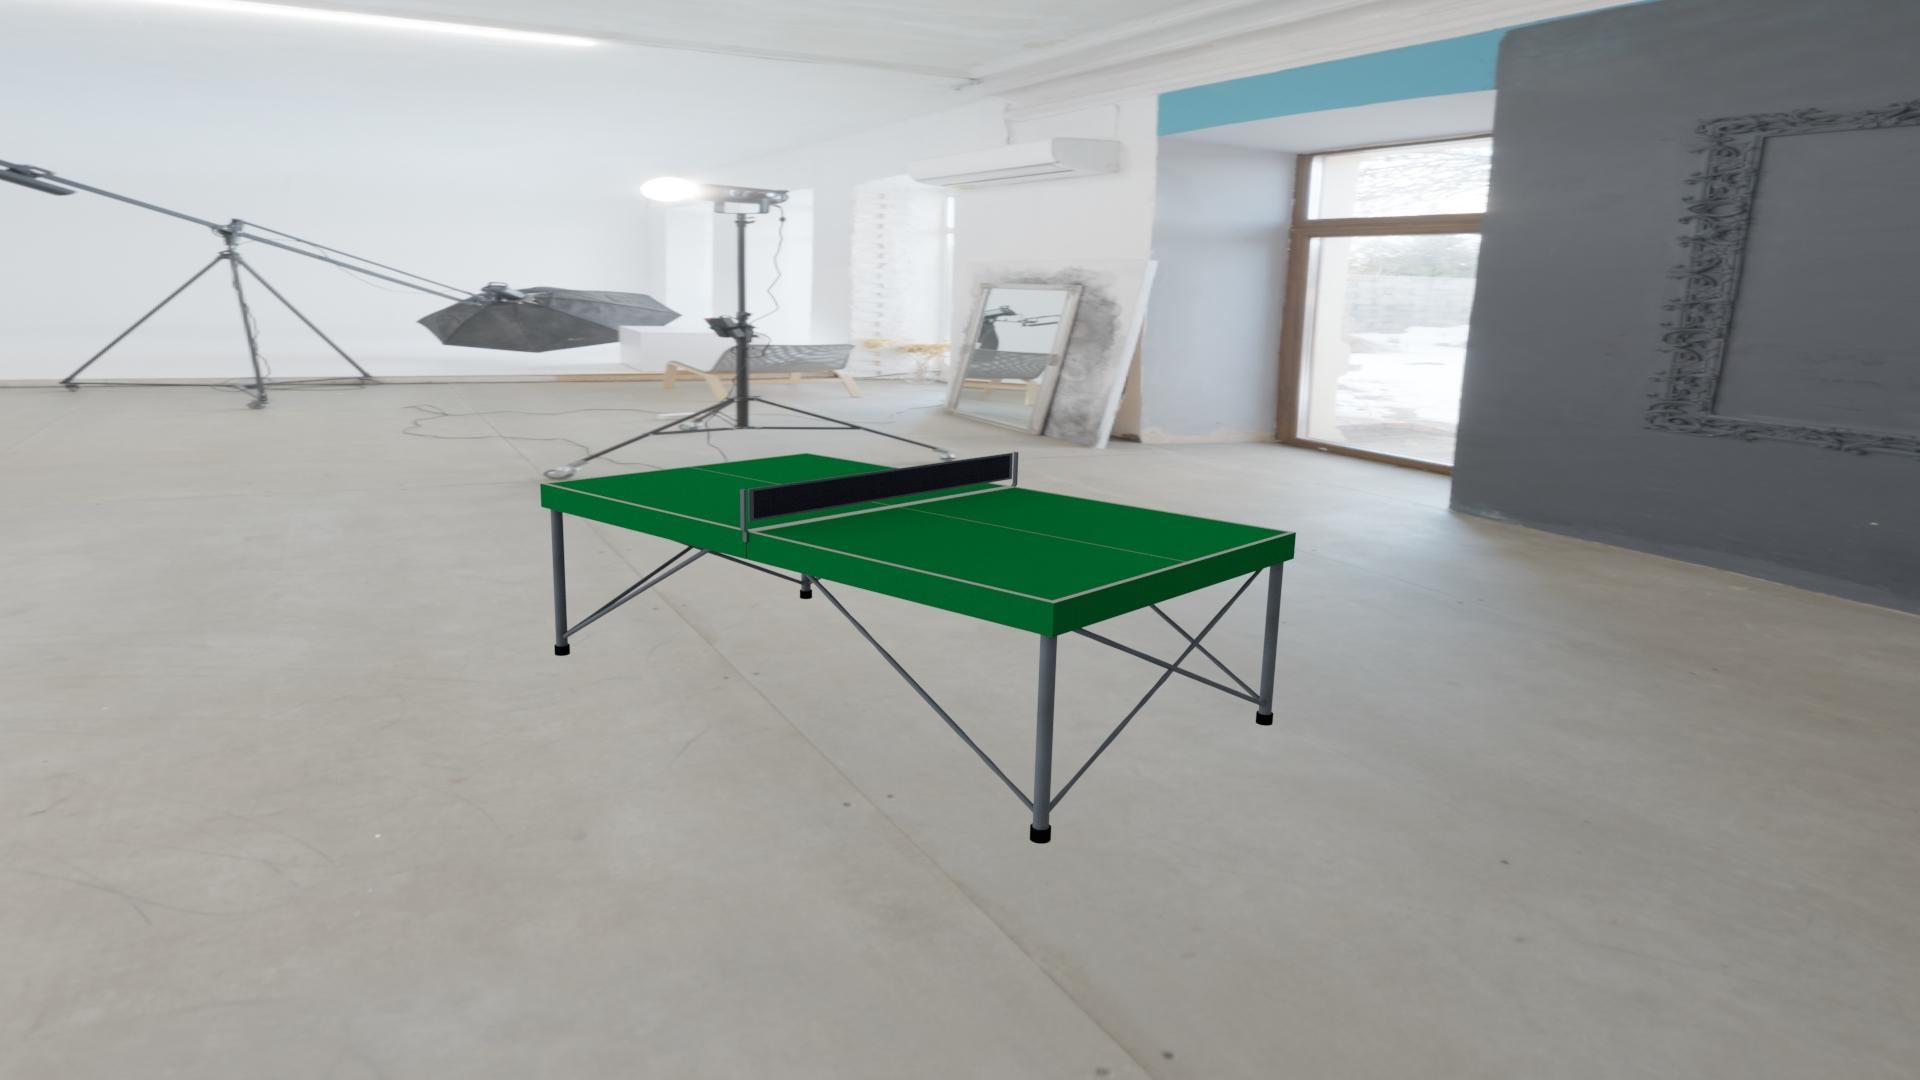table: (547, 454, 1288, 600)
